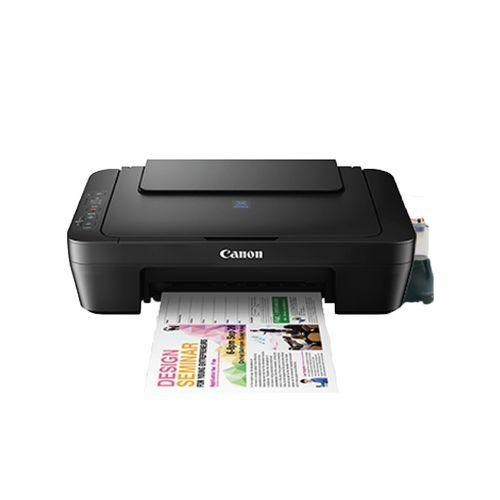Printer: (65, 158, 433, 392)
